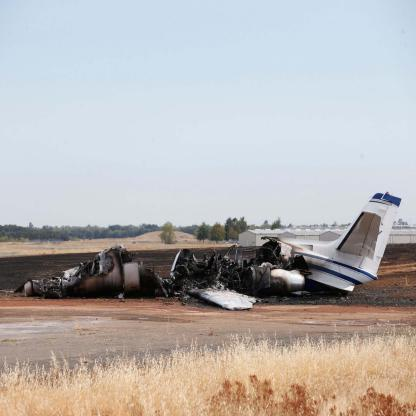CIV_Plane: (26, 188, 404, 326)
